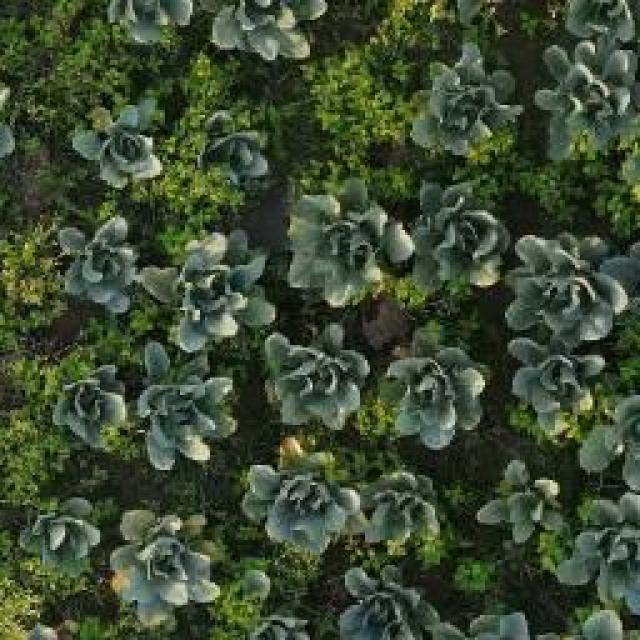cabbage: (142, 230, 274, 349), (240, 436, 360, 562), (136, 337, 240, 476), (507, 228, 628, 344), (107, 511, 221, 634), (283, 175, 395, 293), (378, 325, 488, 445), (535, 42, 640, 152), (408, 177, 507, 291), (262, 328, 372, 430), (412, 51, 524, 150), (558, 496, 640, 617), (68, 92, 170, 186), (505, 338, 598, 438), (56, 213, 140, 314), (47, 355, 130, 447), (207, 0, 329, 62), (185, 105, 272, 191), (355, 462, 438, 550), (338, 566, 436, 640), (478, 458, 560, 543), (16, 498, 99, 580)
